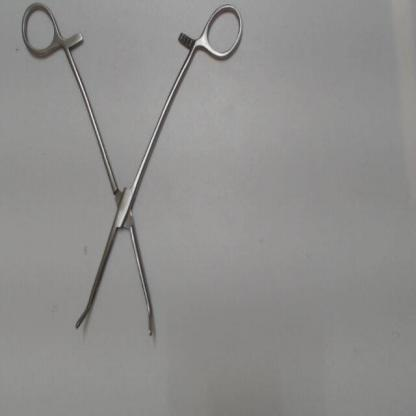Lahey Forceps: (9, 0, 251, 350)
